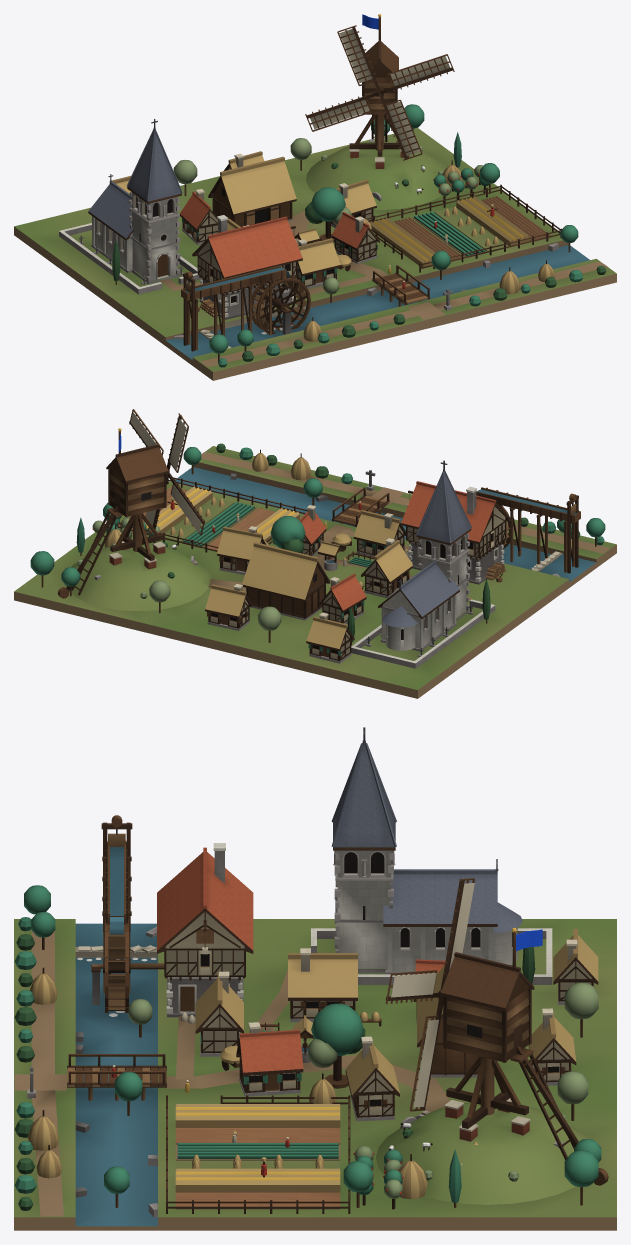
File: lm_degirmenkoy.glb
The picture shows the model from 3 angles, top to bottom: view 1: azimuth 30°, elevation 25°; view 2: azimuth 150°, elevation 25°; view 3: azimuth 270°, elevation 25°; orthographic projection. The views are drawn at different scales.
Parts seen in each view (by area): view 1: lm_degirmenkoy; view 2: lm_degirmenkoy; view 3: lm_degirmenkoy.
Boxes of the visible parts, box(x1,y1,x2,y2) form: lm_degirmenkoy: box(14, 14, 616, 380); lm_degirmenkoy: box(14, 409, 616, 698); lm_degirmenkoy: box(14, 727, 616, 1230).
Size of the model in its own units: 2.4 by 1.01 by 2.05.
1 material, 1 textured.
